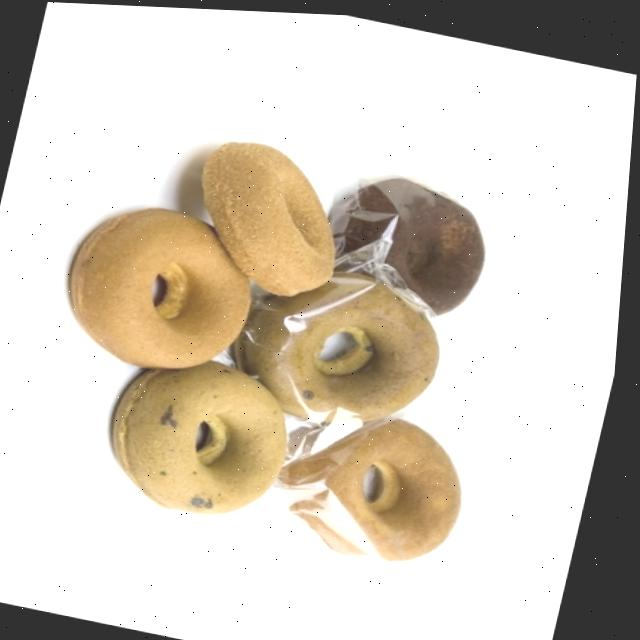炸货点心: (0, 83, 588, 611)
